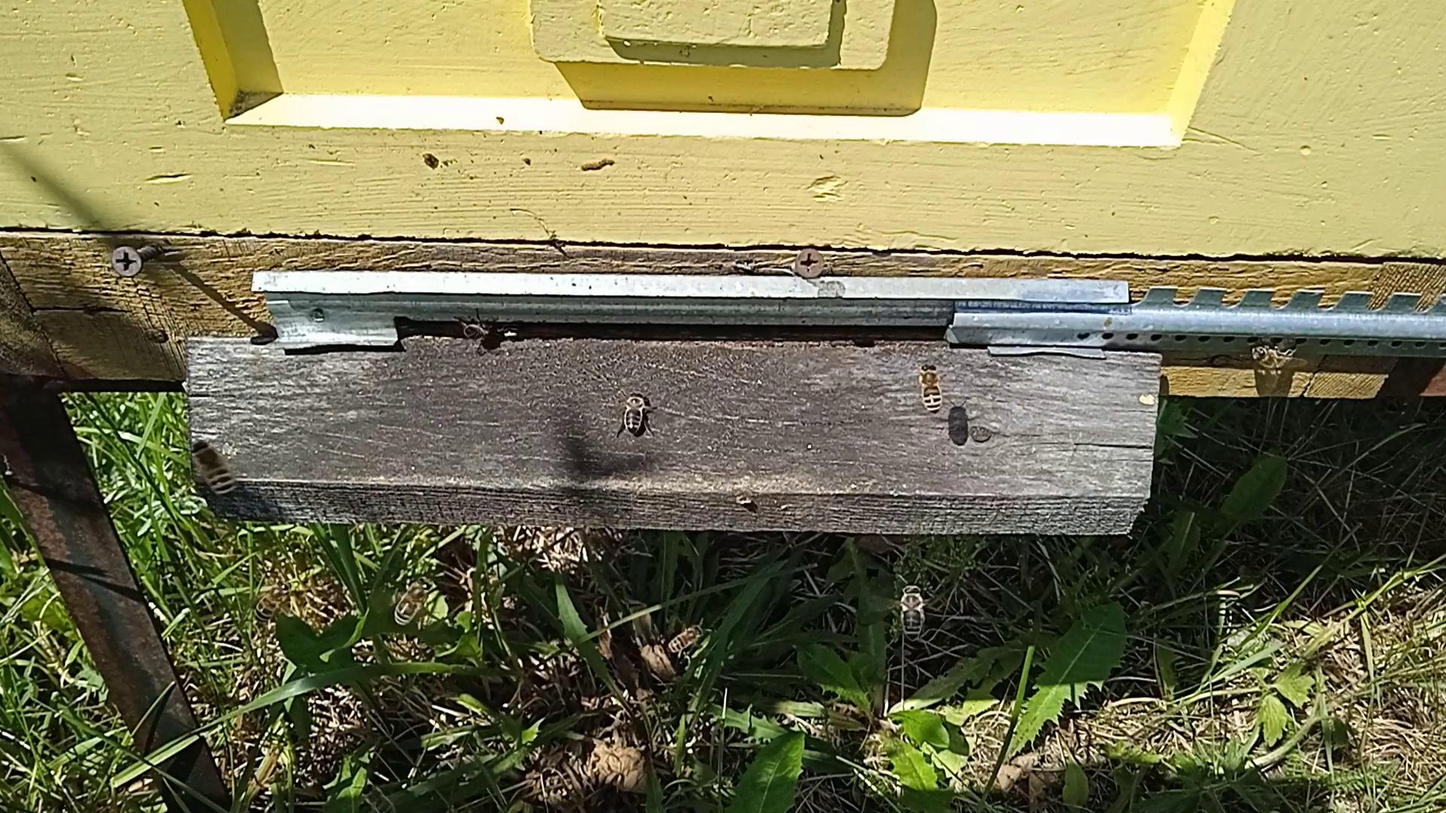worker-bee: (189, 440, 238, 498), (393, 575, 436, 627), (899, 584, 927, 641), (255, 581, 291, 624), (618, 390, 651, 435), (1249, 343, 1298, 371), (918, 361, 943, 415), (667, 623, 707, 653), (360, 784, 397, 813), (456, 317, 497, 343), (496, 321, 525, 343)
